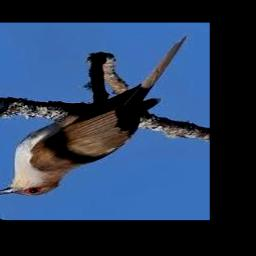Cuckoo: (0, 36, 187, 196)
